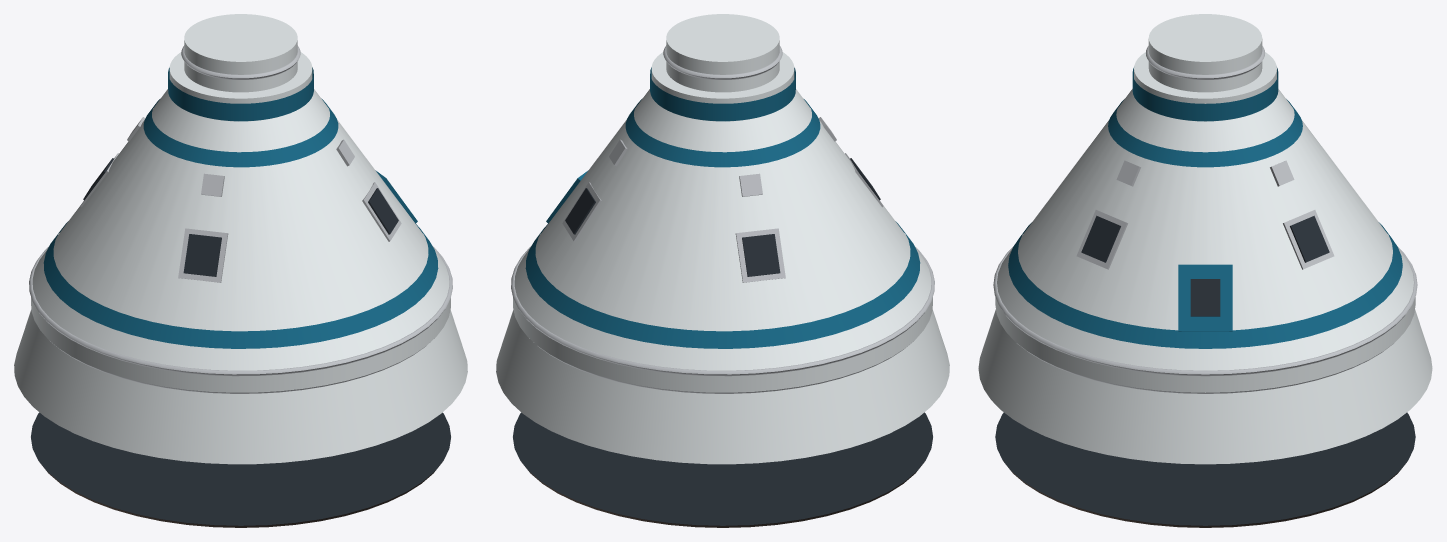
The model's file is tps_reusable_ceramic_tiles.fbx.
3 renders of one model, left to right at view 1: azimuth 30°, elevation 25°; view 2: azimuth 150°, elevation 25°; view 3: azimuth 270°, elevation 25°, orthographic.
Visible parts, largest first — view 1: tps_reusable_ceramic_tiles_LOD0; view 2: tps_reusable_ceramic_tiles_LOD0; view 3: tps_reusable_ceramic_tiles_LOD0.
Part boxes in pixels (x1,y1,x2,y2): tps_reusable_ceramic_tiles_LOD0: [14, 14, 467, 527]; tps_reusable_ceramic_tiles_LOD0: [496, 14, 949, 527]; tps_reusable_ceramic_tiles_LOD0: [978, 14, 1432, 527].
Size of what is drawn, in the model's own units: 5.4 by 5.8 by 5.4.
